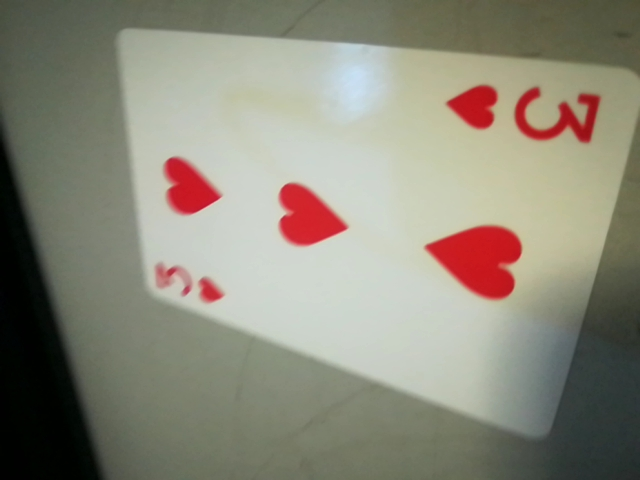hx 3: (451, 74, 612, 150)
